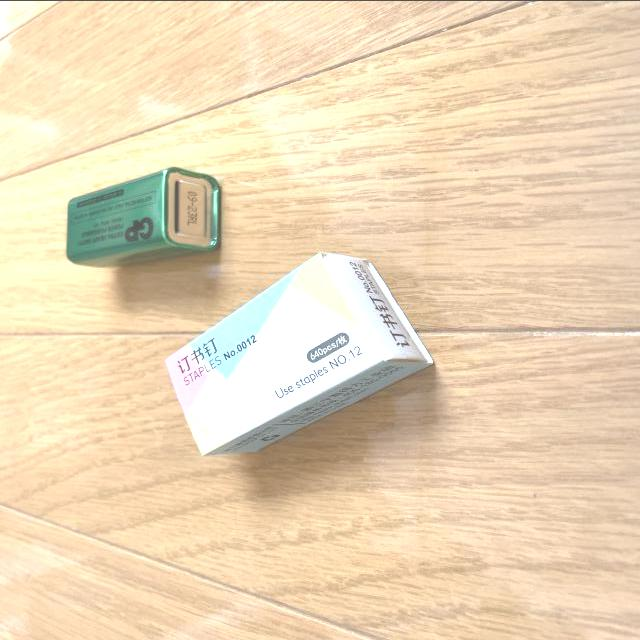9V: (63, 166, 222, 265)
